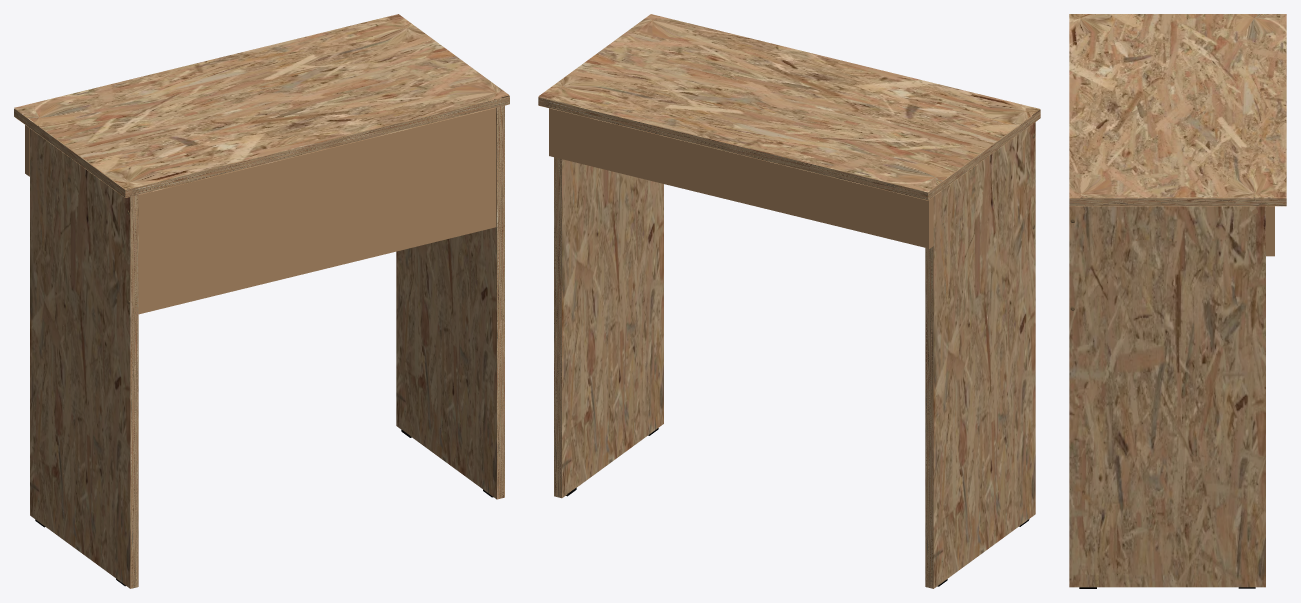
The model's file is chair.glb.
3 views of the same model, side by side, from view 1: azimuth 30°, elevation 25°; view 2: azimuth 150°, elevation 25°; view 3: azimuth 270°, elevation 25° (orthographic). The views are drawn at different scales.
Visible parts, largest first — view 1: Стойка-2; view 2: Стойка-2; view 3: Стойка-2.
Part boxes in pixels (x1,y1,x2,y2): Стойка-2: (14,14,509,588); Стойка-2: (538,14,1040,588); Стойка-2: (1069,14,1286,588).
Bounding box in the file's own units: 0.75 × 0.7508 × 0.3757.
Materials: 15 (6 with a texture image).
